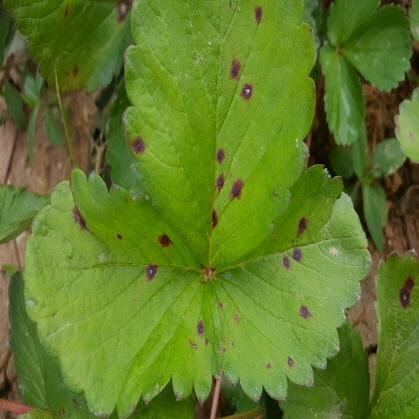Leaf Spot: (120, 0, 316, 269), (21, 168, 222, 418), (207, 160, 373, 405), (0, 0, 137, 96), (367, 249, 418, 418), (392, 87, 418, 164)
